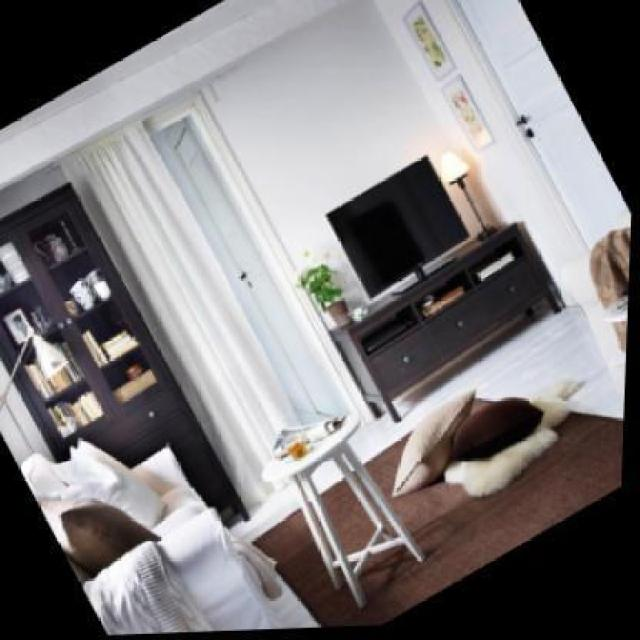tables: (260, 412, 425, 610)
